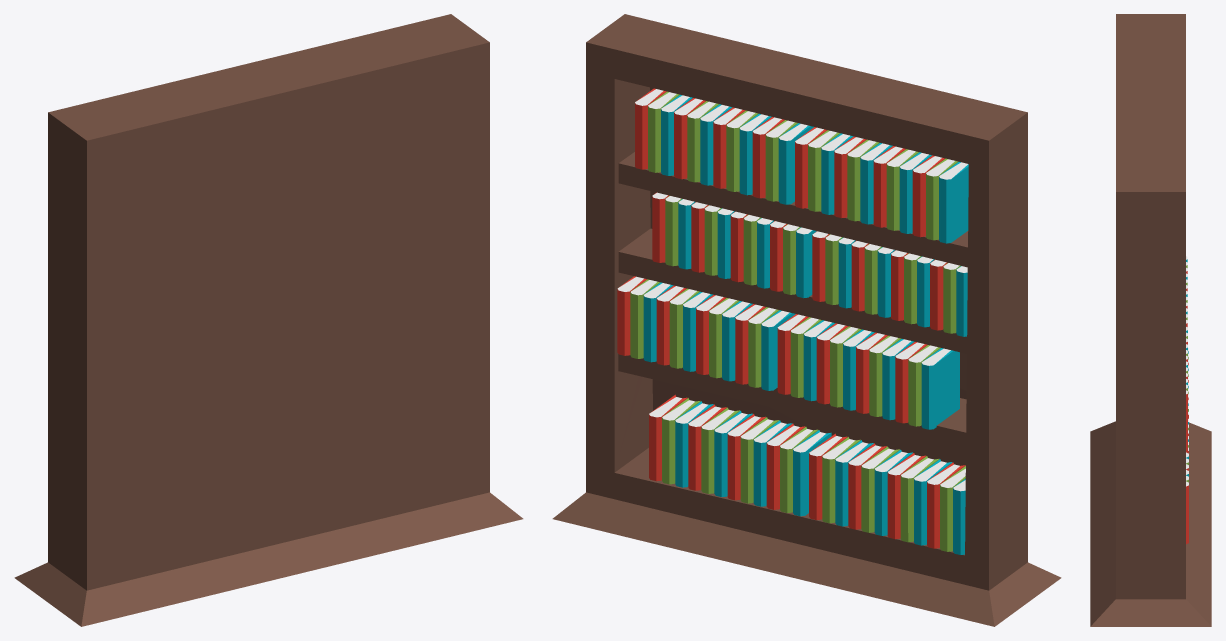
Rendered from booksonbookshelf.glb.
3 renders of one model, left to right at view 1: azimuth 30°, elevation 25°; view 2: azimuth 150°, elevation 25°; view 3: azimuth 270°, elevation 25°, orthographic. The views are drawn at different scales.
Parts seen in each view (by area): view 1: group1295511530; view 2: group1295511530, group568524671, group886227347, group1660160457, group861598260, group362314774, group584662381, group488812185, group2010286517, group7480704, group786323976, group751422384 (+85 smaller); view 3: group1295511530.
Boxes of the visible parts, x1,y1,x2,y2 form: group1295511530: [14, 14, 523, 626]; group1295511530: [552, 14, 1061, 626]; group568524671: [921, 348, 959, 429]; group886227347: [939, 162, 968, 243]; group1660160457: [793, 430, 831, 516]; group861598260: [778, 123, 813, 204]; group362314774: [761, 310, 795, 390]; group584662381: [753, 420, 792, 506]; group488812185: [848, 443, 886, 529]; group2010286517: [740, 417, 779, 503]; group7480704: [688, 404, 726, 490]; group786323976: [675, 401, 713, 487]; group751422384: [766, 423, 805, 509]; group1295511530: [1090, 14, 1211, 626].
Size of the model in its own units: 1.69 by 1.72 by 0.4444.
